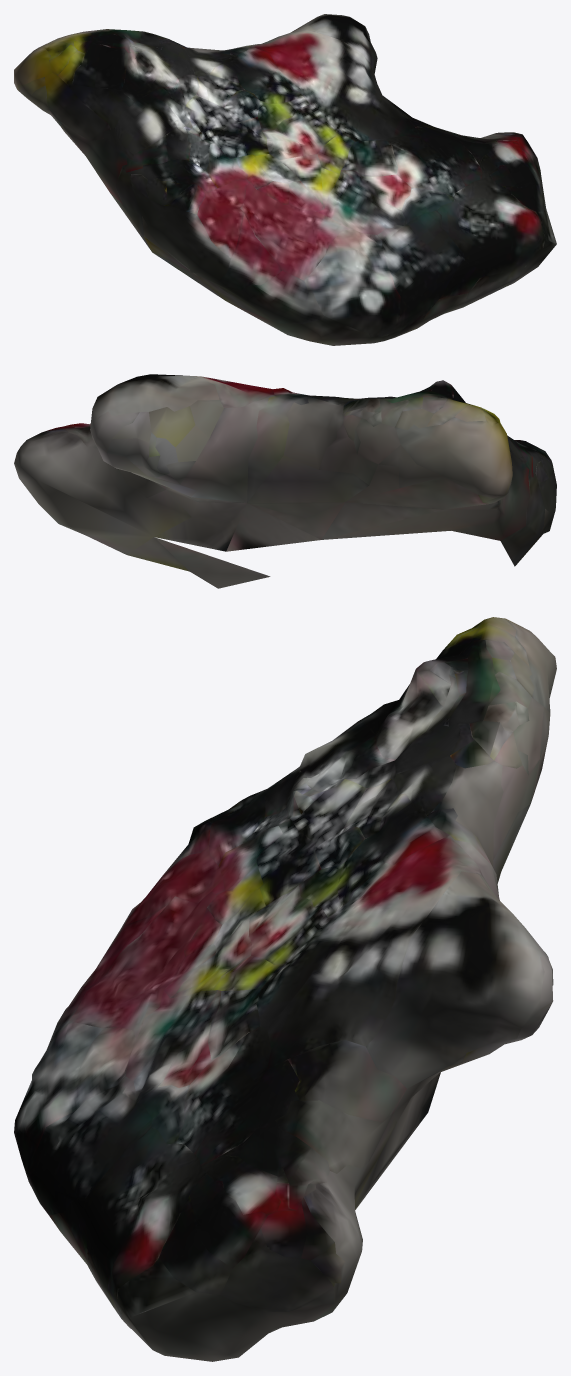
Rendered from hall.glb.
3 views of the same model, one above another, from view 1: azimuth 30°, elevation 25°; view 2: azimuth 150°, elevation 25°; view 3: azimuth 270°, elevation 25° (orthographic). The views are drawn at different scales.
Size of the model in its own units: 0.5952 by 0.3495 by 0.364.
Materials: 1 (1 with a texture image).
